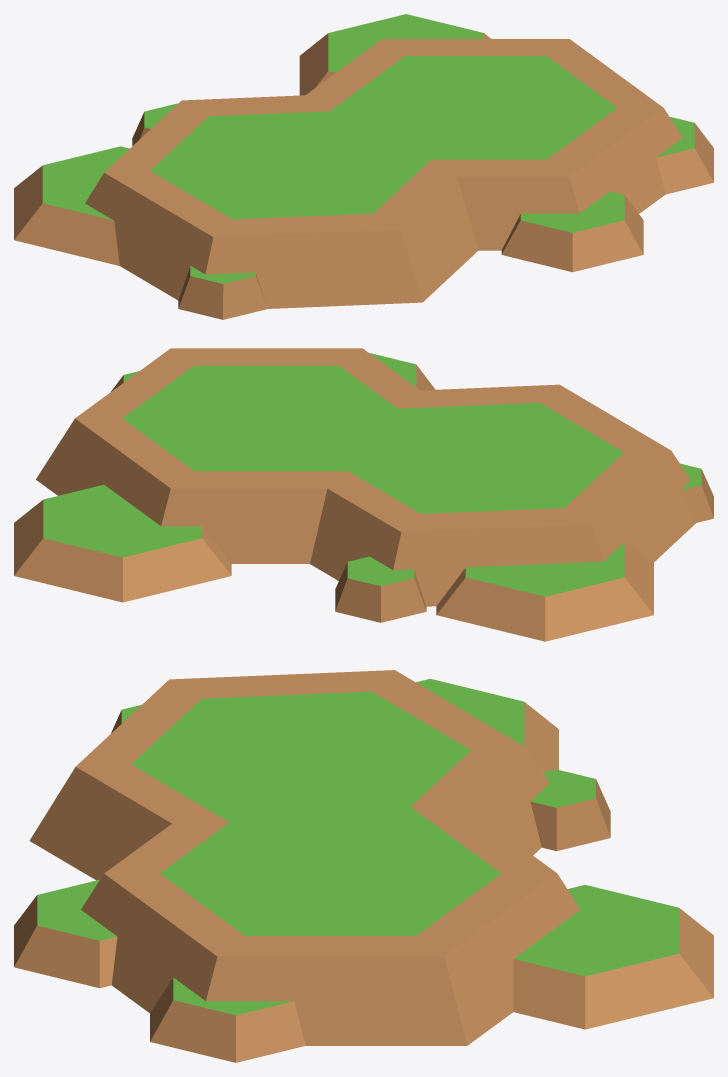
Rendered from grass-patch.glb.
3 views of the same model, one above another, from view 1: azimuth 30°, elevation 25°; view 2: azimuth 150°, elevation 25°; view 3: azimuth 270°, elevation 25° (orthographic). The views are drawn at different scales.
Visible parts, largest first — view 1: platform_grass; view 2: platform_grass; view 3: platform_grass.
Boxes of the visible parts, x1,y1,x2,y2 form: platform_grass: (14,14,713,319); platform_grass: (14,348,713,641); platform_grass: (14,670,713,1062).
Size of the model in its own units: 3.57 by 0.3302 by 2.9.
